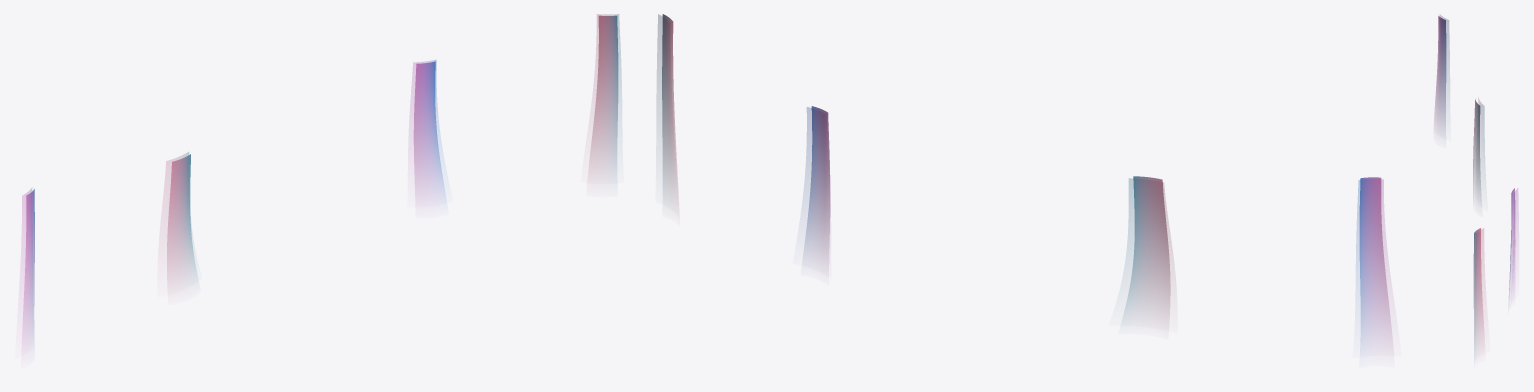
File: ZB_dunya_selaleler.glb
3 renders of one model, left to right at view 1: azimuth 30°, elevation 25°; view 2: azimuth 150°, elevation 25°; view 3: azimuth 270°, elevation 25°, orthographic. The views are drawn at different scales.
Visible parts, largest first — view 1: selale_serbet, selale_sut, selale_su, selale_bal; view 2: selale_su, selale_bal, selale_sut, selale_serbet; view 3: selale_bal, selale_serbet, selale_su, selale_sut.
Boxes of the visible parts, left/top/right/bottom form: selale_serbet: left=588, top=14, right=621, bottom=177; selale_sut: left=409, top=60, right=445, bottom=201; selale_su: left=160, top=152, right=197, bottom=289; selale_bal: left=20, top=188, right=34, bottom=349; selale_su: left=1123, top=176, right=1173, bottom=322; selale_bal: left=1356, top=177, right=1392, bottom=347; selale_sut: left=803, top=106, right=830, bottom=267; selale_serbet: left=657, top=14, right=678, bottom=205; selale_bal: left=1434, top=15, right=1449, bottom=133; selale_serbet: left=1473, top=228, right=1485, bottom=352; selale_su: left=1473, top=98, right=1484, bottom=203; selale_sut: left=1509, top=188, right=1518, bottom=298.
Bounding box in the file's own units: 1573 × 443 × 245.
